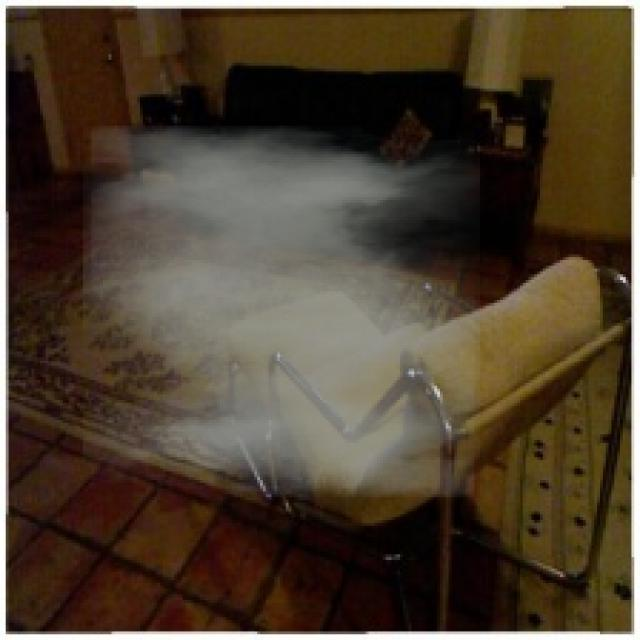smoke: (83, 126, 480, 497)
